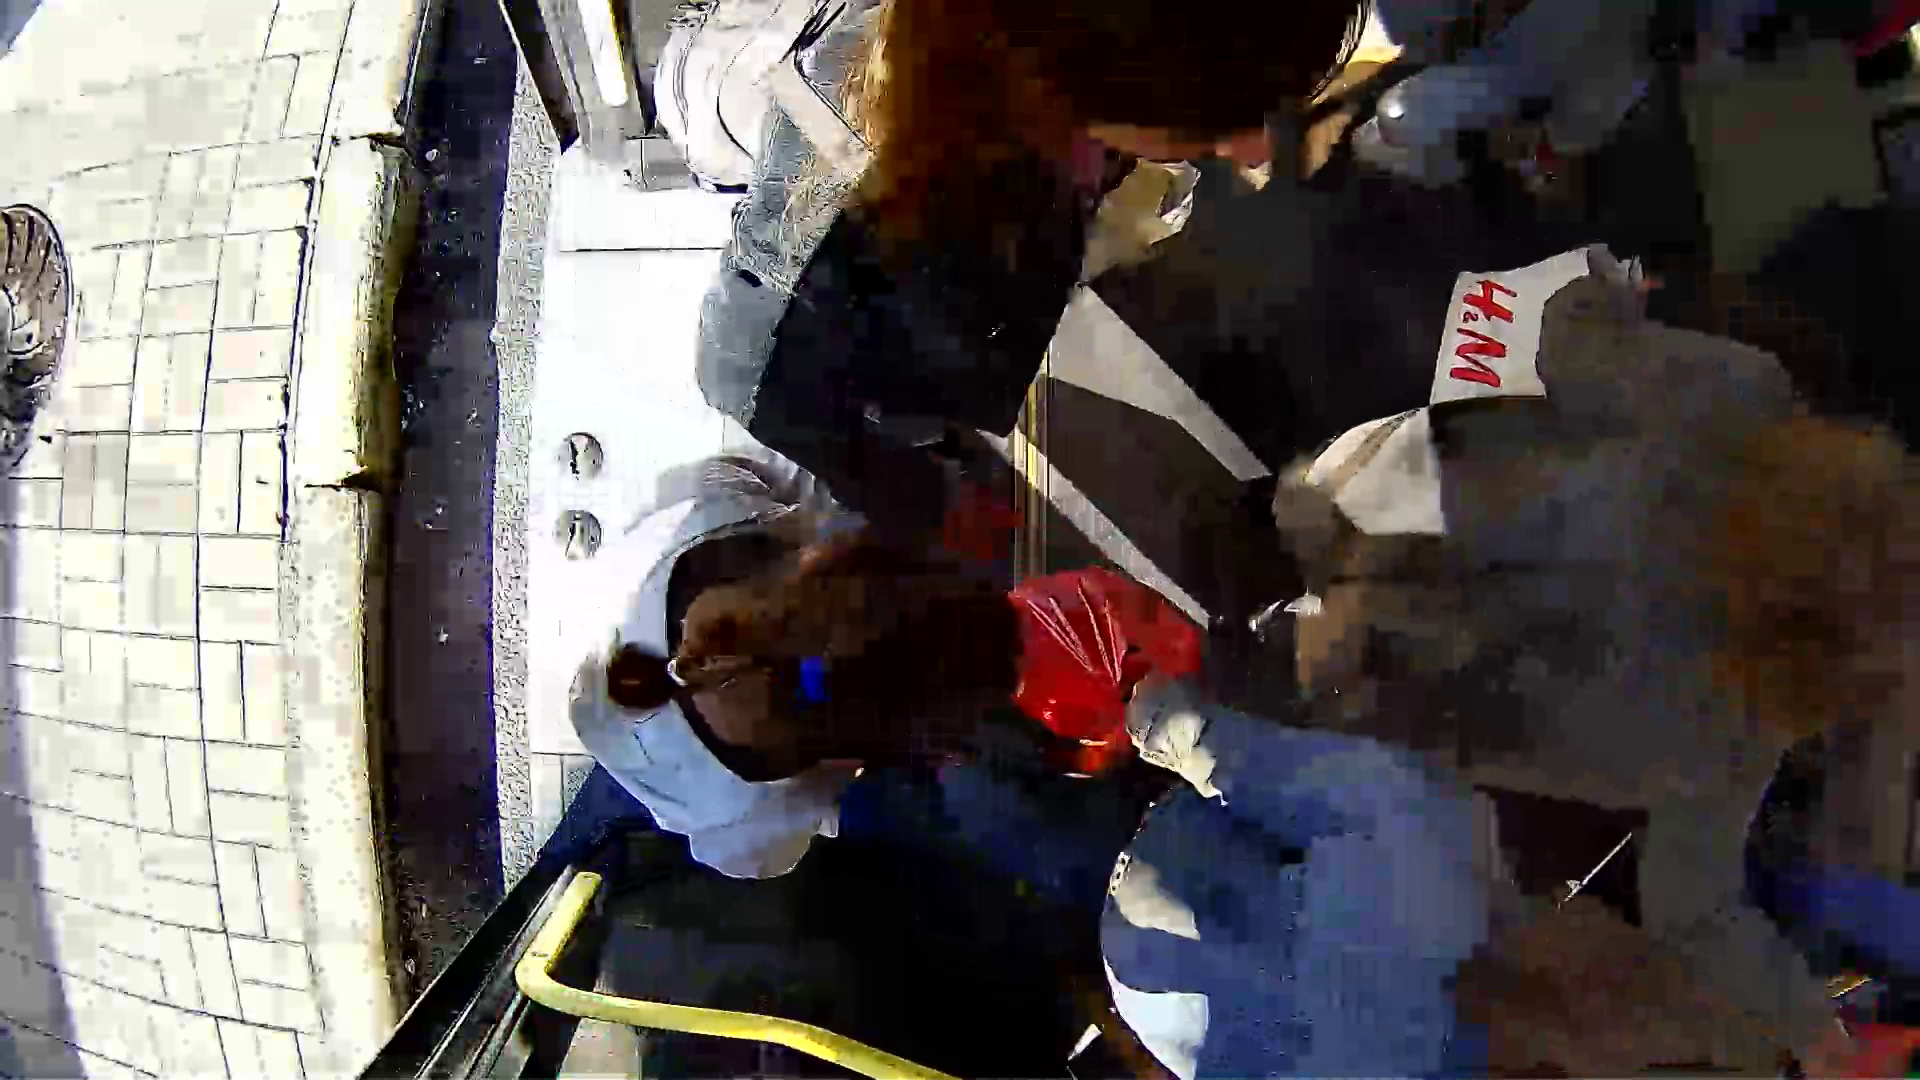person: (696, 10, 1423, 423), (584, 445, 1075, 844)
